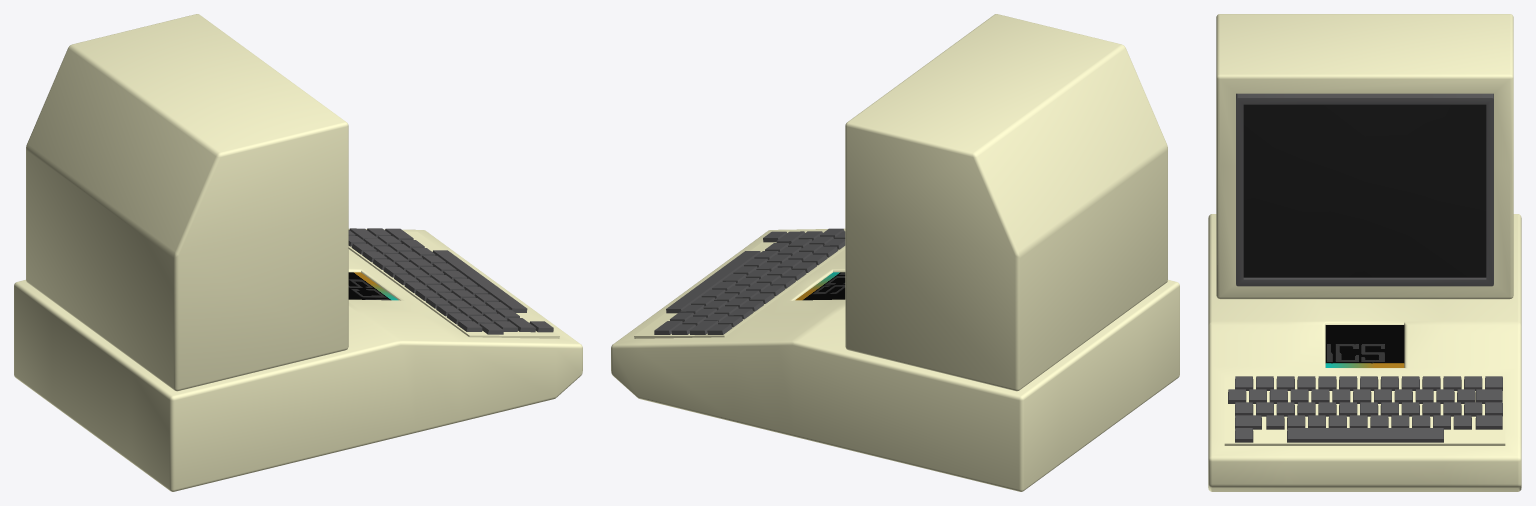
The model's file is Computer.fbx.
3 renders of one model, left to right at view 1: azimuth 30°, elevation 25°; view 2: azimuth 150°, elevation 25°; view 3: azimuth 270°, elevation 25°, orthographic.
Visible parts, largest first — view 1: Computer; view 2: Computer; view 3: Computer.
Boxes of the visible parts, box(x1,y1,x2,y2) form: Computer: box(14, 14, 582, 491); Computer: box(611, 14, 1179, 491); Computer: box(1208, 14, 1521, 491).
Bounding box in the file's own units: 135 × 101 × 90.18.
